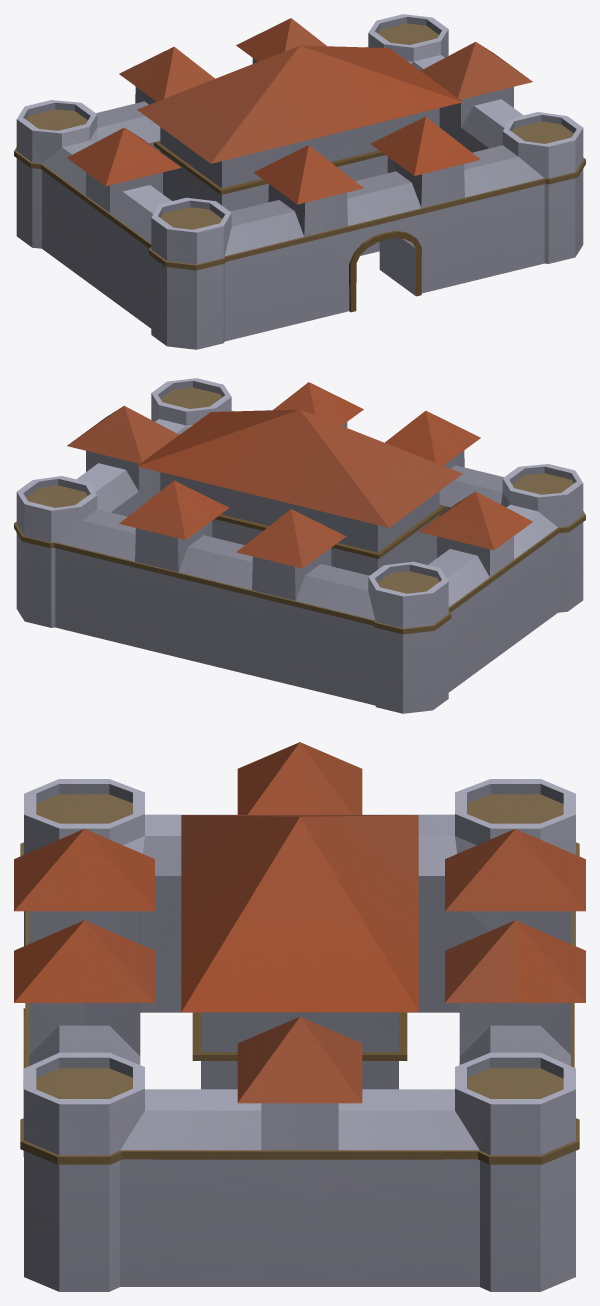
Rendered from fort_tex_001.fbx.
3 views of the same model, one above another, from view 1: azimuth 30°, elevation 25°; view 2: azimuth 150°, elevation 25°; view 3: azimuth 270°, elevation 25° (orthographic). The views are drawn at different scales.
Parts seen in each view (by area): view 1: Fort; view 2: Fort; view 3: Fort.
Part boxes in pixels (bbox=[...]): Fort: bbox=[14, 14, 585, 349]; Fort: bbox=[14, 378, 585, 713]; Fort: bbox=[14, 742, 585, 1291].
Bounding box in the file's own units: 729 × 318 × 527.
